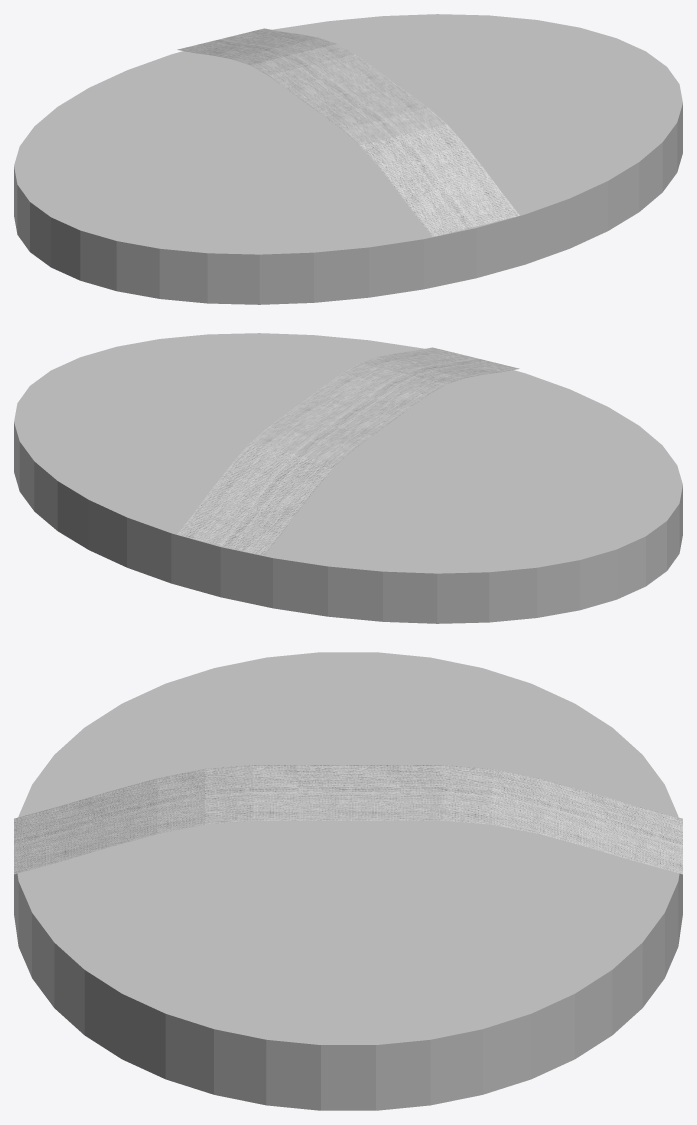
File: sponge.fbx
The picture shows the model from 3 angles, top to bottom: view 1: azimuth 30°, elevation 25°; view 2: azimuth 150°, elevation 25°; view 3: azimuth 270°, elevation 25°; orthographic projection. The views are drawn at different scales.
Parts seen in each view (by area): view 1: Plane; view 2: Plane; view 3: Plane.
Boxes of the visible parts, bbox=[...] form: Plane: bbox=[14, 14, 682, 304]; Plane: bbox=[14, 333, 682, 623]; Plane: bbox=[14, 652, 682, 1110].
Bounding box in the file's own units: 278 × 40 × 200.
